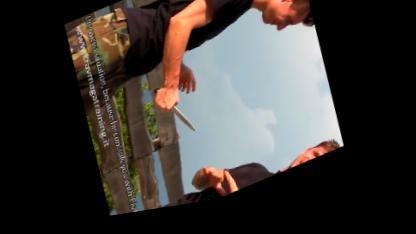knife: (148, 78, 202, 154)
